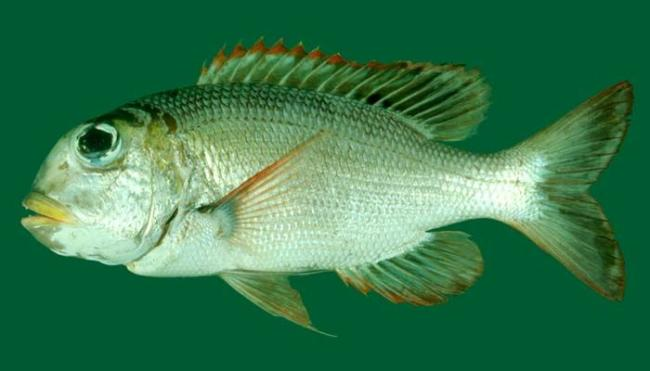fish: (19, 36, 635, 339)
